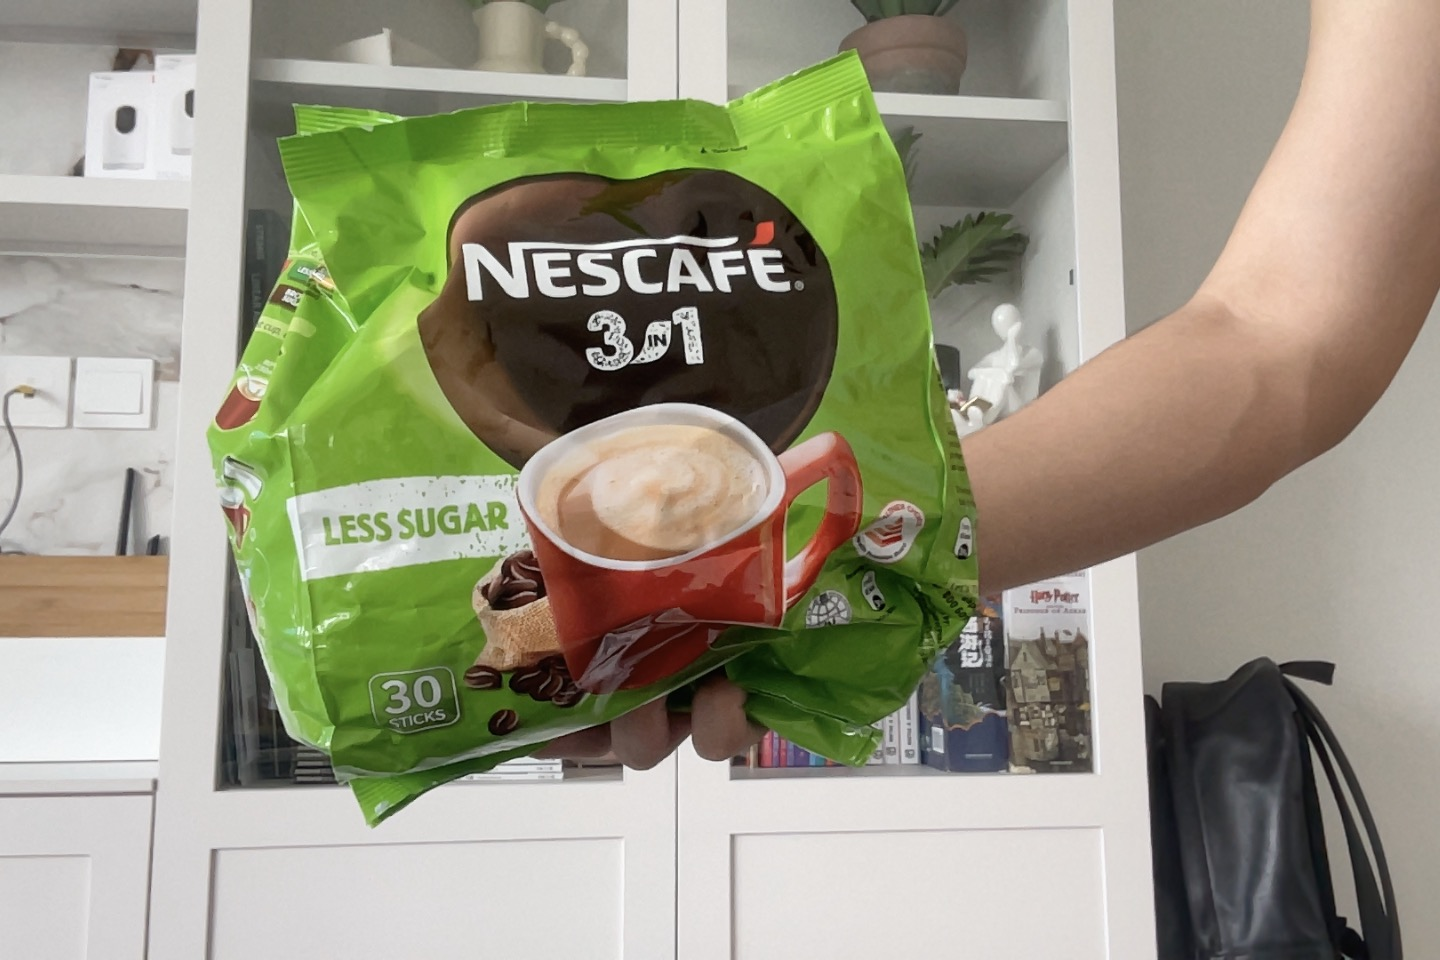Coffee_400-499g_Halal_Healthy: (475, 234, 907, 629)
